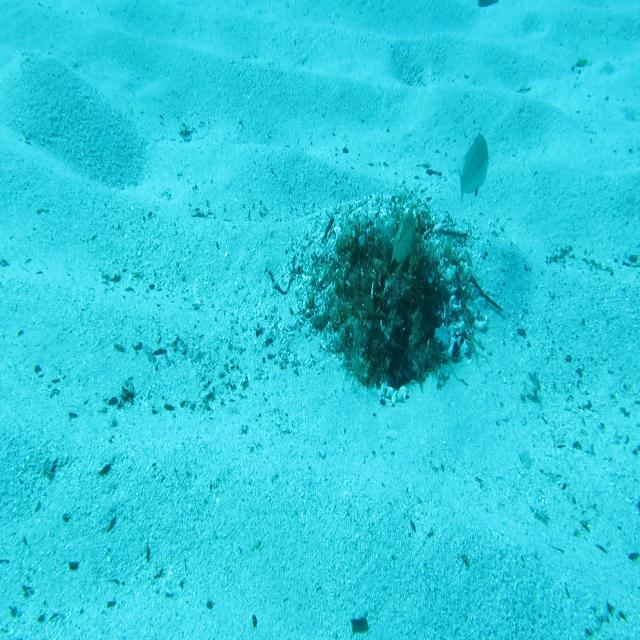NIP_CORE: (387, 202, 418, 274)
core_nest: (360, 238, 400, 270)
female: (456, 126, 491, 208)
nest: (284, 172, 498, 418)
vegetation: (350, 614, 370, 634), (477, 0, 503, 11)
